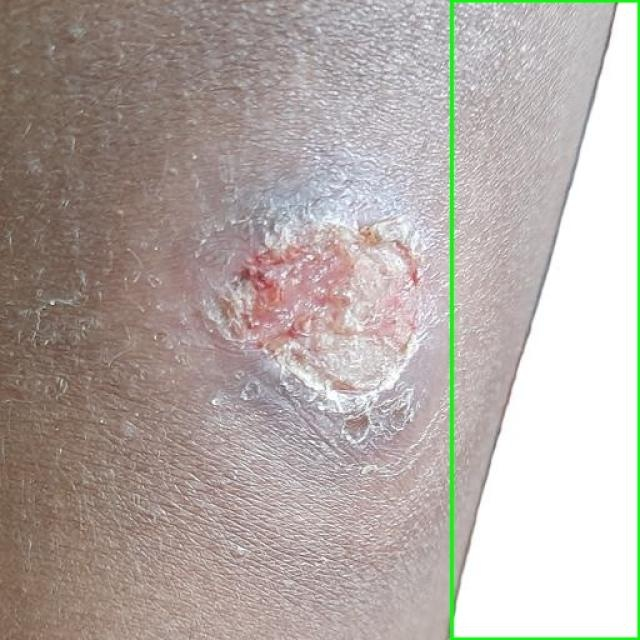Eczema: (451, 0, 639, 639)
